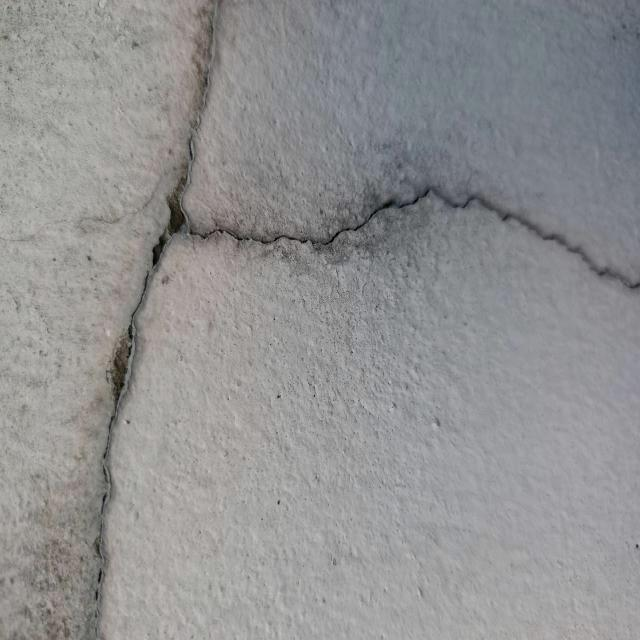SurfaceCrack: (55, 1, 259, 640)
